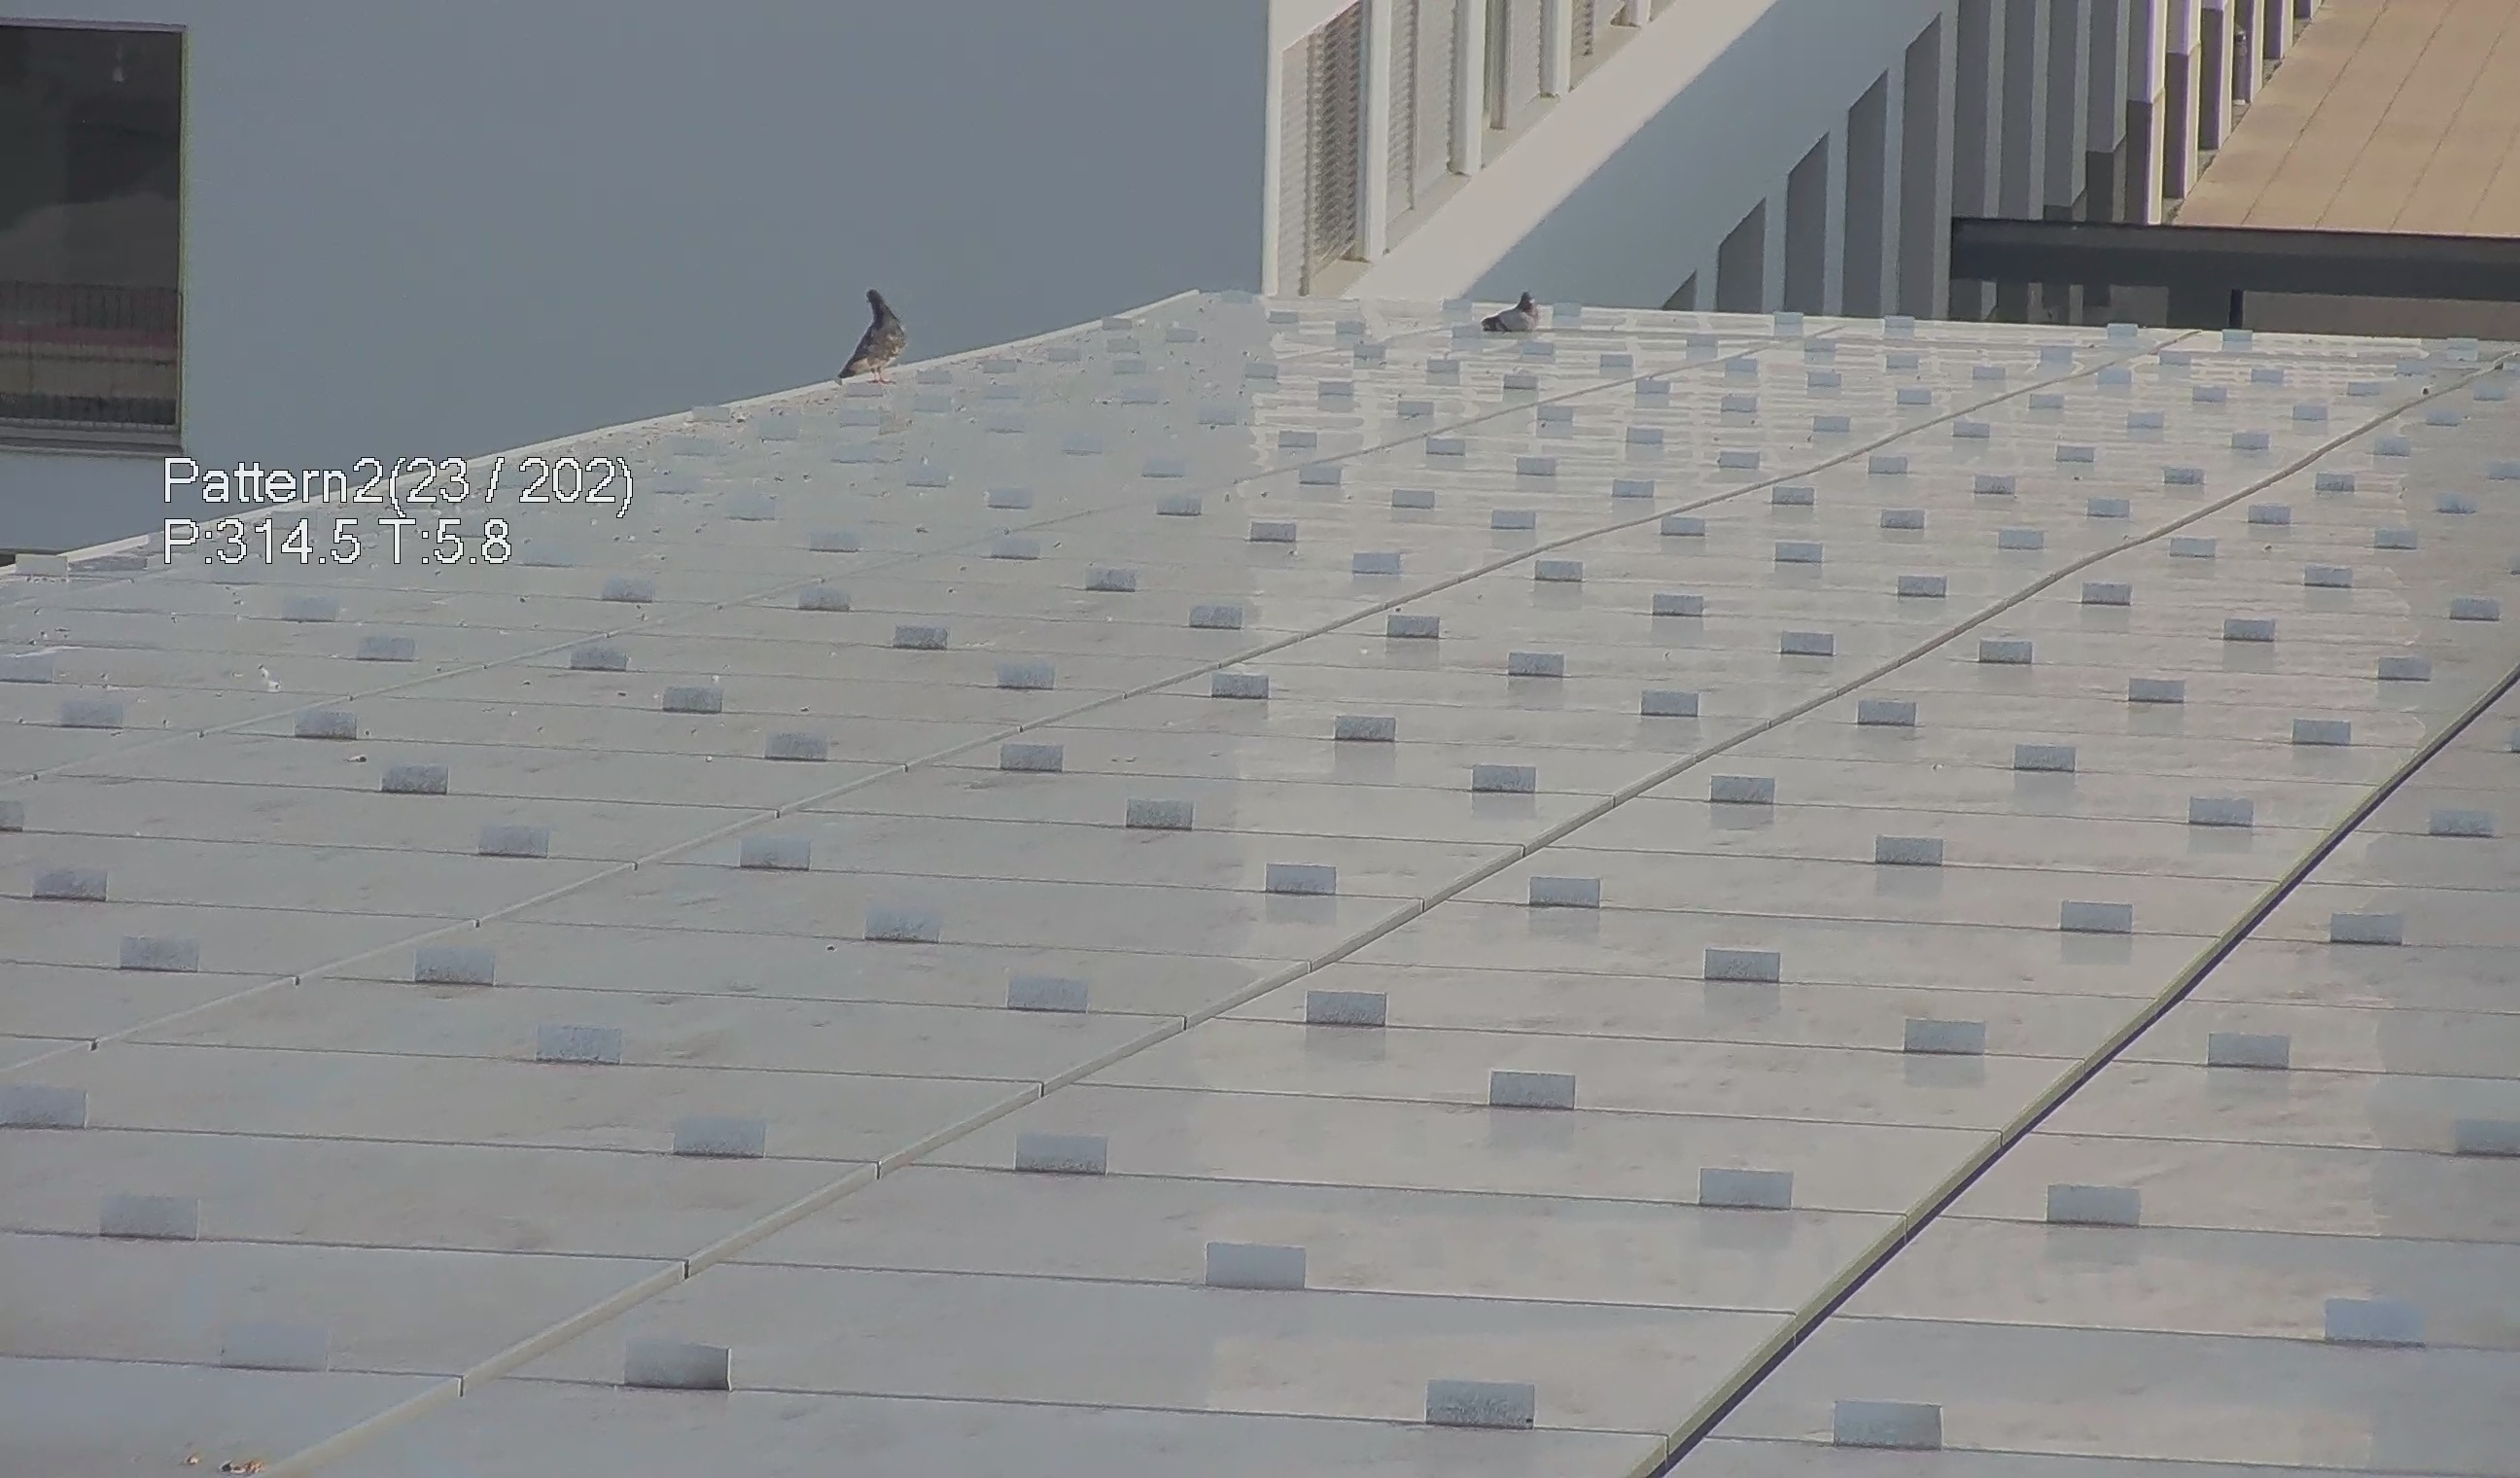Pigeon: (818, 274, 906, 394), (1465, 290, 1560, 357)
